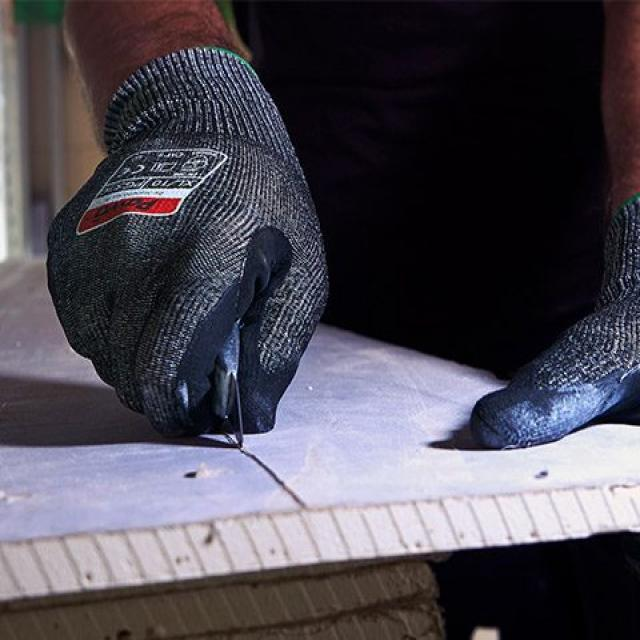gloves: (46, 46, 330, 437), (469, 192, 640, 449)
